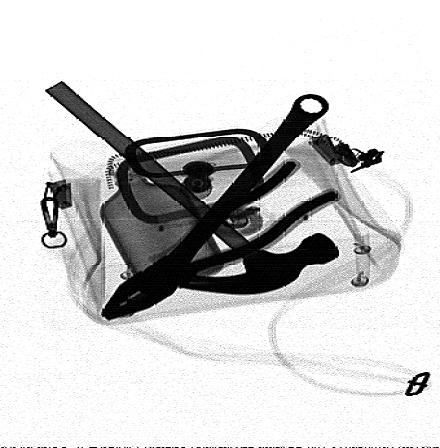Hammer: (44, 81, 340, 294)
Pliers: (100, 153, 343, 323)
Wrench: (113, 93, 327, 314)
